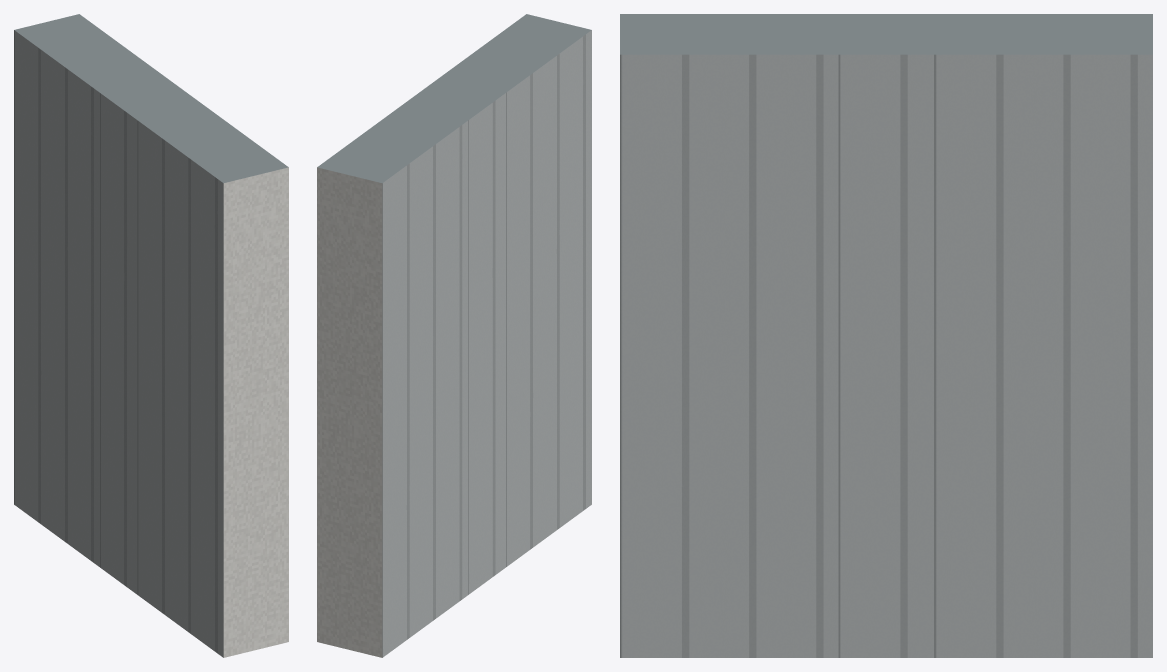
File: Wall_05.glb
3 views of the same model, side by side, from view 1: azimuth 30°, elevation 25°; view 2: azimuth 150°, elevation 25°; view 3: azimuth 270°, elevation 25° (orthographic). The views are drawn at different scales.
Visible parts, largest first — view 1: Wall_NESW_05; view 2: Wall_NESW_05; view 3: Wall_NESW_05.
Boxes of the visible parts, left/top/right/bottom form: Wall_NESW_05: left=14, top=14, right=288, bottom=657; Wall_NESW_05: left=317, top=14, right=591, bottom=657; Wall_NESW_05: left=620, top=14, right=1152, bottom=657.
Size of the model in its own units: 0.18 by 1.25 by 1.
Materials: 1 (1 with a texture image).
